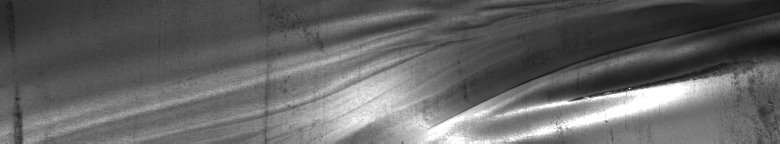ke: (256, 4, 764, 136)
